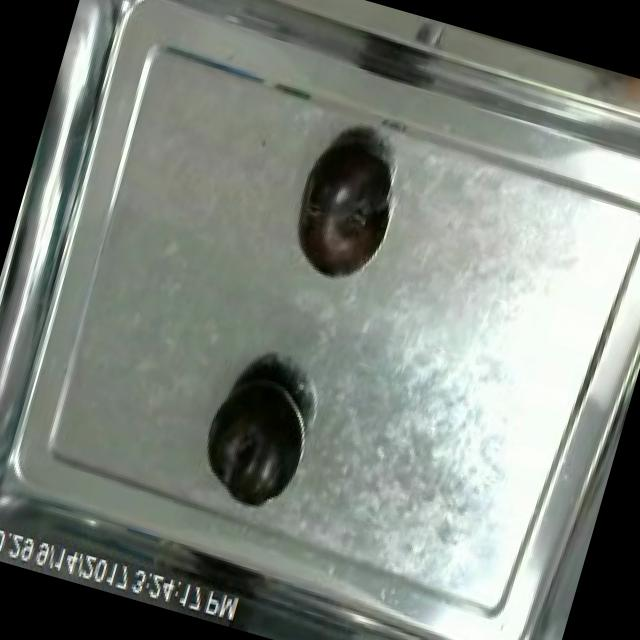Fruit: (188, 360, 320, 520), (279, 134, 402, 292)
